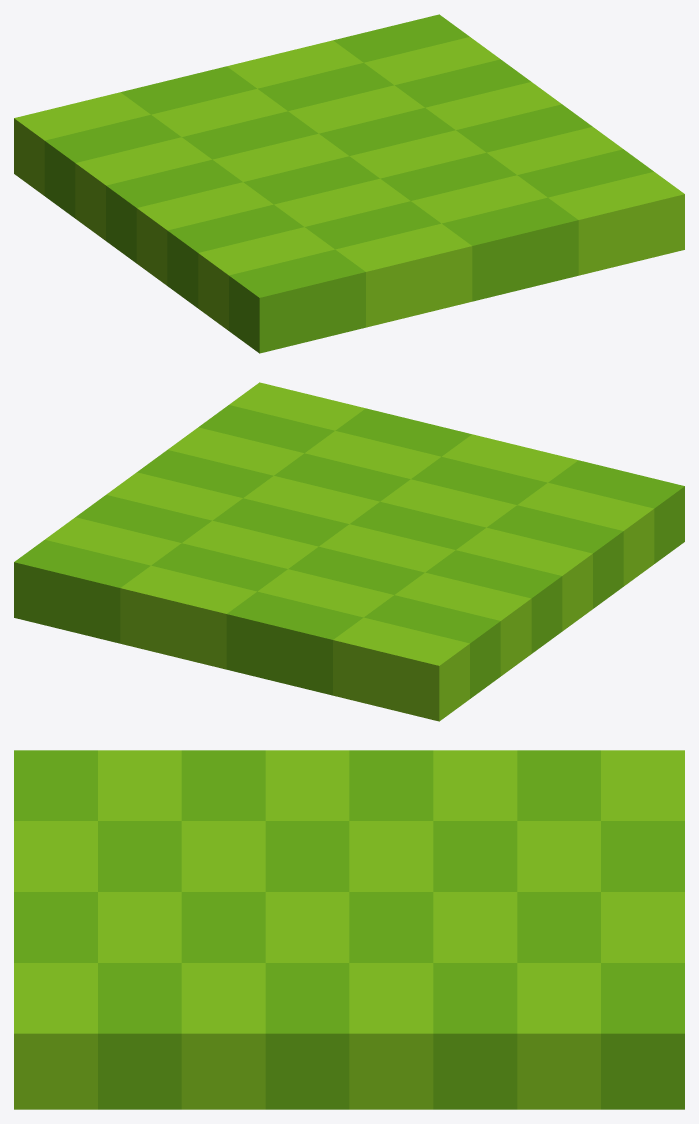
Rendered from carpet_lime_model.glb.
3 views of the same model, one above another, from view 1: azimuth 30°, elevation 25°; view 2: azimuth 150°, elevation 25°; view 3: azimuth 270°, elevation 25° (orthographic). The views are drawn at different scales.
Parts seen in each view (by area): view 1: Untitled; view 2: Untitled; view 3: Untitled.
Part boxes in pixels (left/top/right/bottom): Untitled: left=14, top=14, right=684, bottom=353; Untitled: left=14, top=382, right=684, bottom=721; Untitled: left=14, top=750, right=684, bottom=1109.
Size of the model in its own units: 0.8 by 0.1 by 0.8.
Materials: 1 (1 with a texture image).
